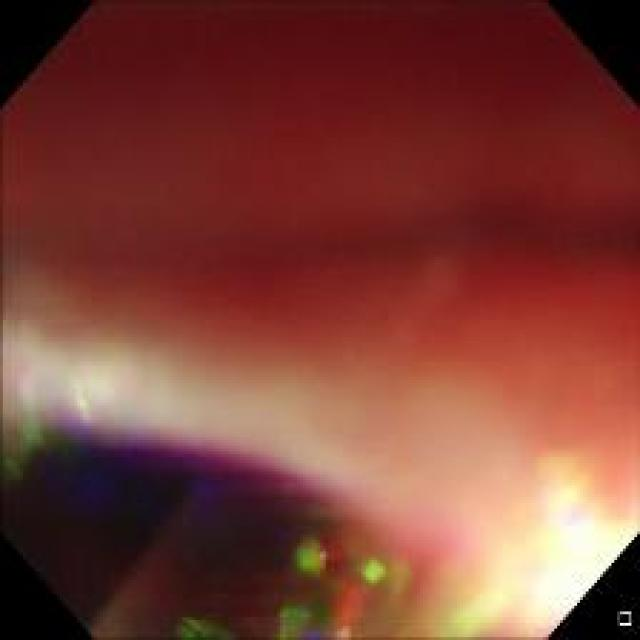color misalignment: (14, 15, 624, 622), (41, 415, 414, 612), (265, 529, 398, 635)
instrument: (94, 469, 240, 624)
saturation: (462, 462, 622, 634)
